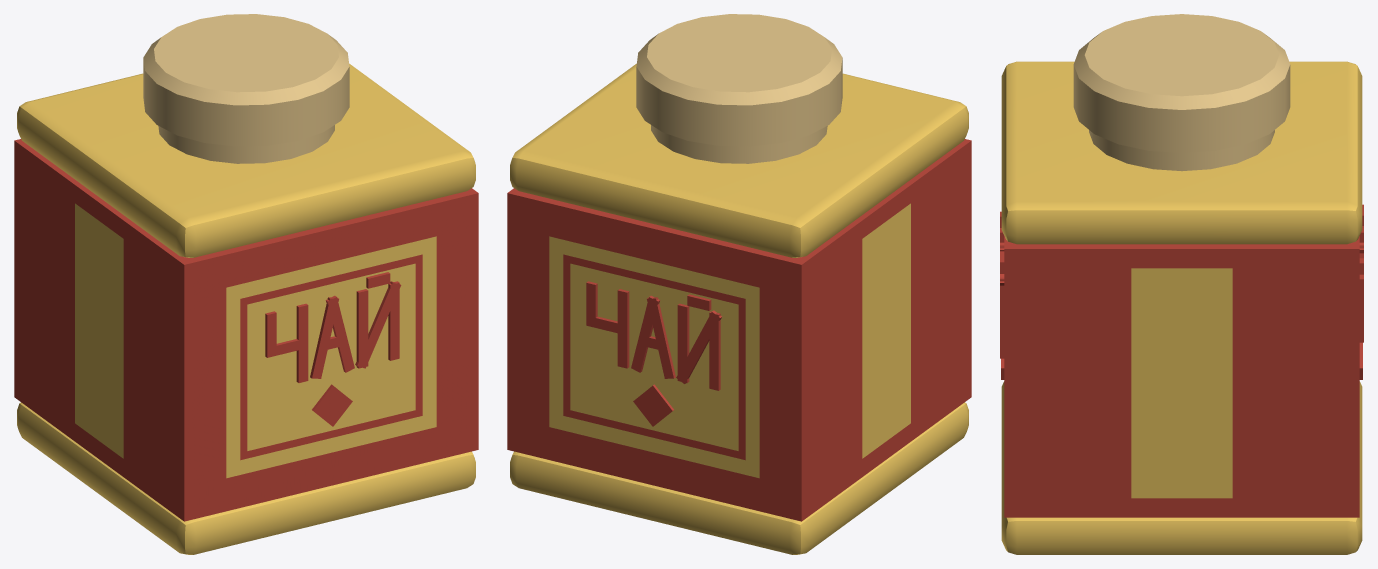
File: tea_tin.glb
The picture shows the model from 3 angles, left to right: view 1: azimuth 30°, elevation 25°; view 2: azimuth 150°, elevation 25°; view 3: azimuth 270°, elevation 25°; orthographic projection. The views are drawn at different scales.
Visible parts, largest first — view 1: body; view 2: body; view 3: body.
Boxes of the visible parts, x1=… form: body: x1=14, y1=14, x2=478, y2=554; body: x1=507, y1=14, x2=971, y2=554; body: x1=1000, y1=14, x2=1363, y2=554.
Bounding box in the file's own units: 0.0426 × 0.056 × 0.043.
